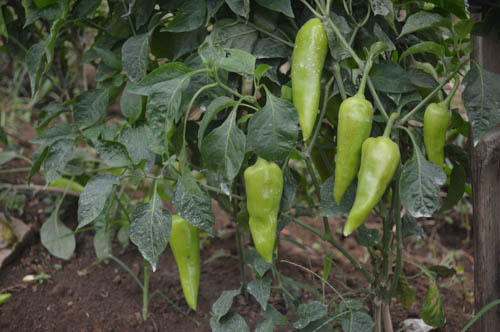ChiliPepper: (341, 136, 397, 245), (289, 20, 328, 141), (335, 94, 372, 208), (242, 162, 283, 261), (173, 214, 203, 313), (419, 99, 448, 167)
